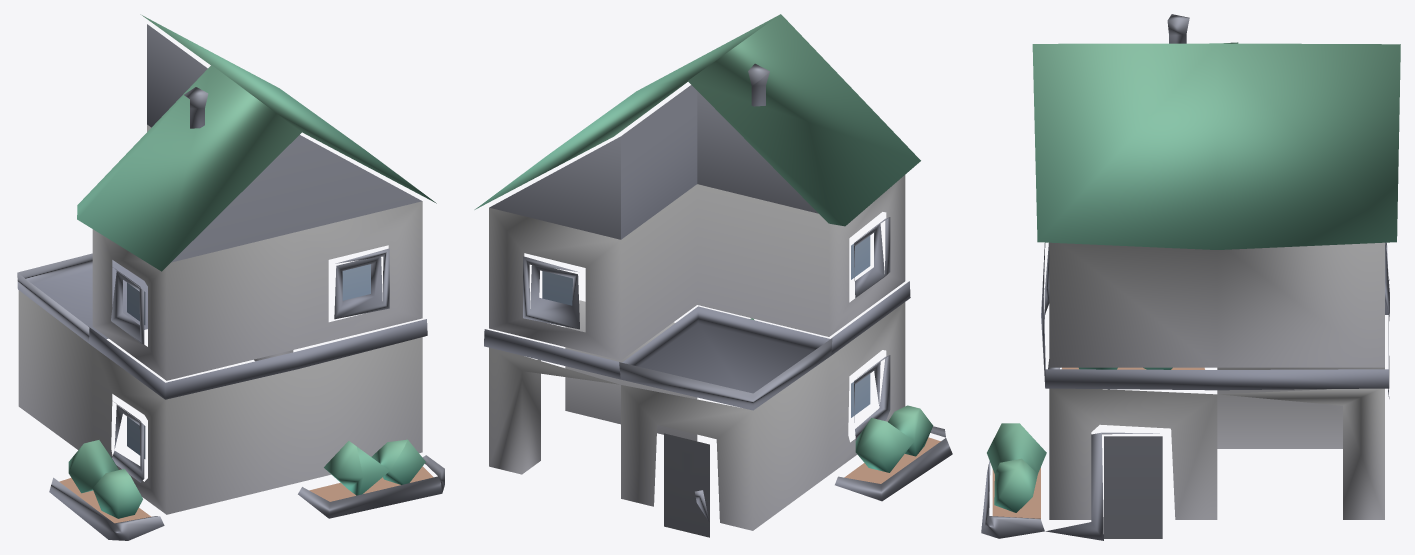
3 renders of one model, left to right at view 1: azimuth 30°, elevation 25°; view 2: azimuth 150°, elevation 25°; view 3: azimuth 270°, elevation 25°, orthographic. The views are drawn at different scales.
Size of the model in its own units: 8.09 by 9.02 by 8.
